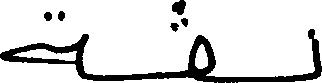X: (0, 6, 84, 82), (186, 14, 215, 82), (311, 24, 321, 82)
